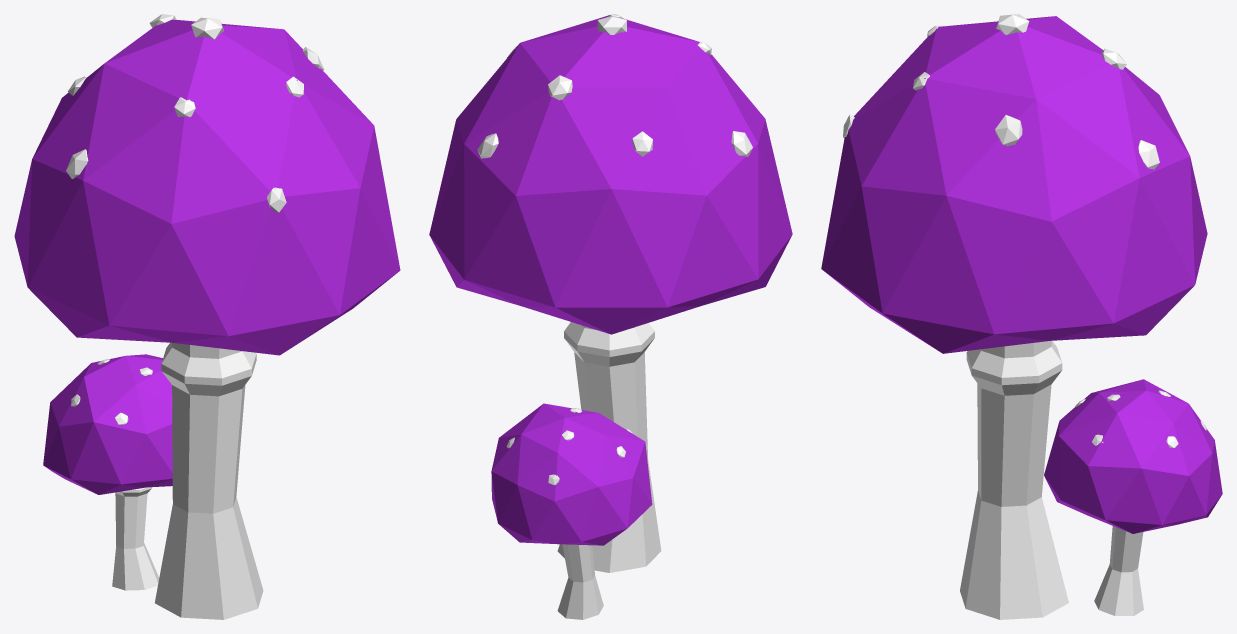
Rendered from mushroom-2-p.glb.
3 renders of one model, left to right at view 1: azimuth 30°, elevation 25°; view 2: azimuth 150°, elevation 25°; view 3: azimuth 270°, elevation 25°, orthographic. The views are drawn at different scales.
Visible parts, largest first — view 1: pasted__Mushroom5_4; view 2: pasted__Mushroom5_4; view 3: pasted__Mushroom5_4.
Boxes of the visible parts, x1,y1,x2,y2 form: pasted__Mushroom5_4: [14, 14, 400, 619]; pasted__Mushroom5_4: [429, 14, 792, 619]; pasted__Mushroom5_4: [821, 14, 1222, 619].
Size of the model in its own units: 0.5521 by 0.9335 by 0.5638.
